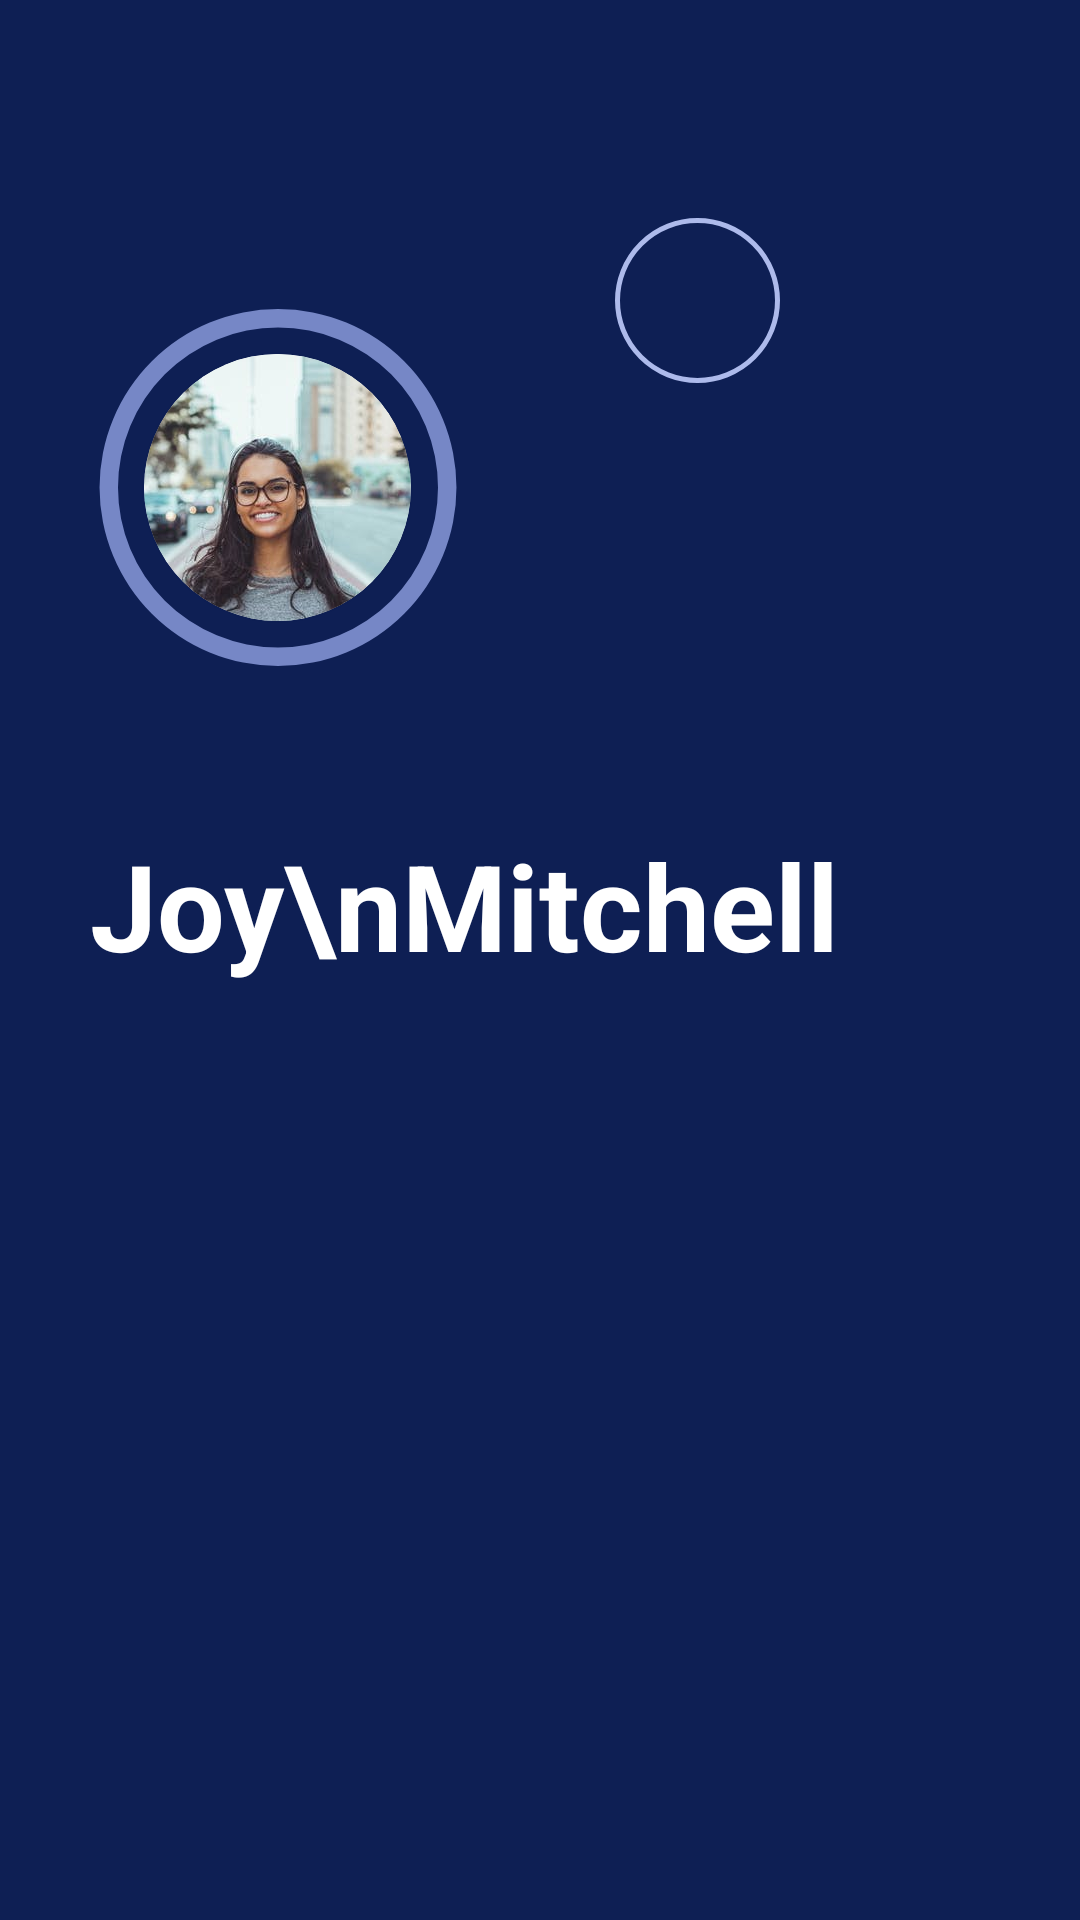

Named icons in this screenshot (1080 x 1920) and their centers, [x,y]:
profile user: [277,487]
